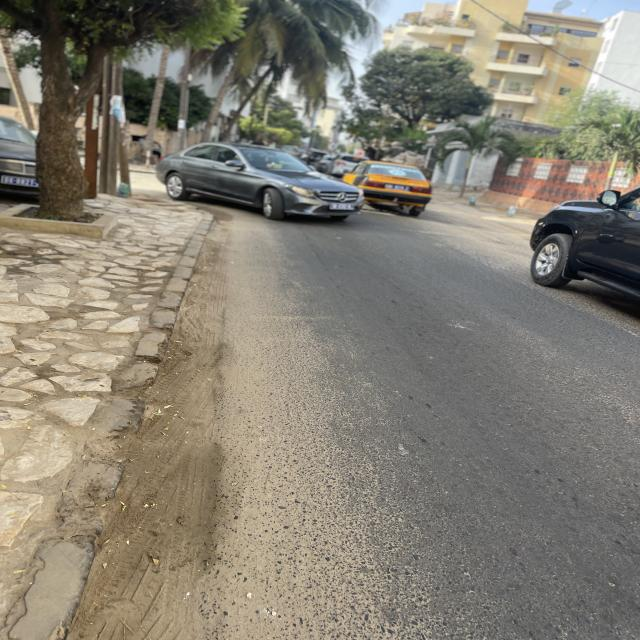particulier: (158, 144, 366, 221), (531, 190, 640, 300), (1, 117, 39, 196), (328, 155, 369, 179)
taxi: (344, 162, 433, 217)
